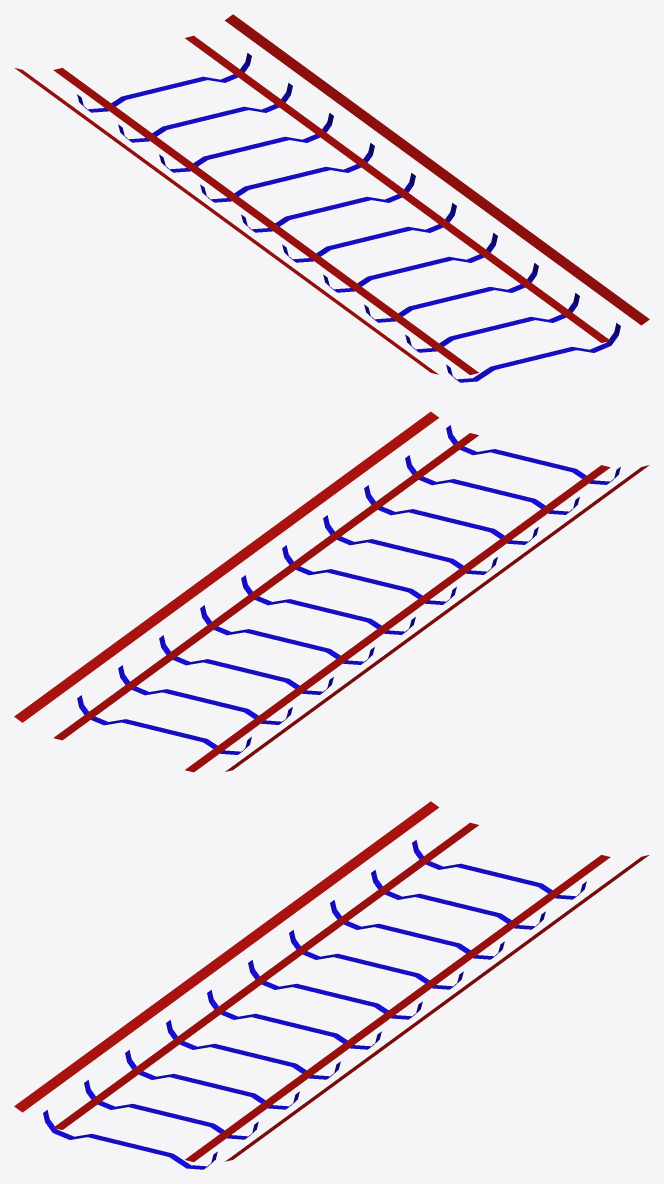
The model's file is Rail.FBX.
3 views of the same model, one above another, from view 1: azimuth 30°, elevation 25°; view 2: azimuth 150°, elevation 25°; view 3: azimuth 330°, elevation 25° (orthographic).
Parts seen in each view (by area): view 1: Plane002, Plane001, Plane011, Plane010, Plane007, Plane008, Plane009, Plane006, Plane005, Plane004, Plane003; view 2: Plane002, Plane004, Plane001, Plane003, Plane005, Plane007, Plane006, Plane008, Plane009, Plane010, Plane011; view 3: Plane002, Plane001, Plane011, Plane010, Plane007, Plane008, Plane009, Plane006, Plane005, Plane004, Plane003.
Part boxes in pixels (x1,y1,x2,y2): Plane002: (15, 14, 649, 374); Plane001: (446, 323, 620, 382); Plane011: (77, 53, 251, 112); Plane010: (118, 83, 292, 142); Plane007: (241, 173, 415, 232); Plane008: (200, 143, 374, 202); Plane009: (159, 113, 333, 172); Plane006: (282, 203, 456, 262); Plane005: (323, 233, 497, 292); Plane004: (364, 263, 538, 322); Plane003: (405, 293, 579, 352); Plane002: (14, 411, 649, 772); Plane004: (364, 485, 538, 544); Plane001: (446, 425, 620, 484); Plane003: (405, 455, 579, 514); Plane005: (323, 515, 497, 574); Plane007: (241, 575, 415, 634); Plane006: (282, 545, 456, 604); Plane008: (200, 605, 374, 664); Plane009: (159, 635, 333, 694); Plane010: (118, 665, 292, 724); Plane011: (77, 695, 251, 754); Plane002: (14, 801, 648, 1161); Plane001: (43, 1110, 217, 1169); Plane011: (412, 840, 586, 899); Plane010: (371, 870, 545, 929); Plane007: (248, 960, 422, 1019); Plane008: (289, 930, 463, 989); Plane009: (330, 900, 504, 959); Plane006: (207, 990, 381, 1049); Plane005: (166, 1020, 340, 1079); Plane004: (125, 1050, 299, 1109); Plane003: (84, 1080, 258, 1139).
Size of the model in its own units: 154 by 16.53 by 508.
